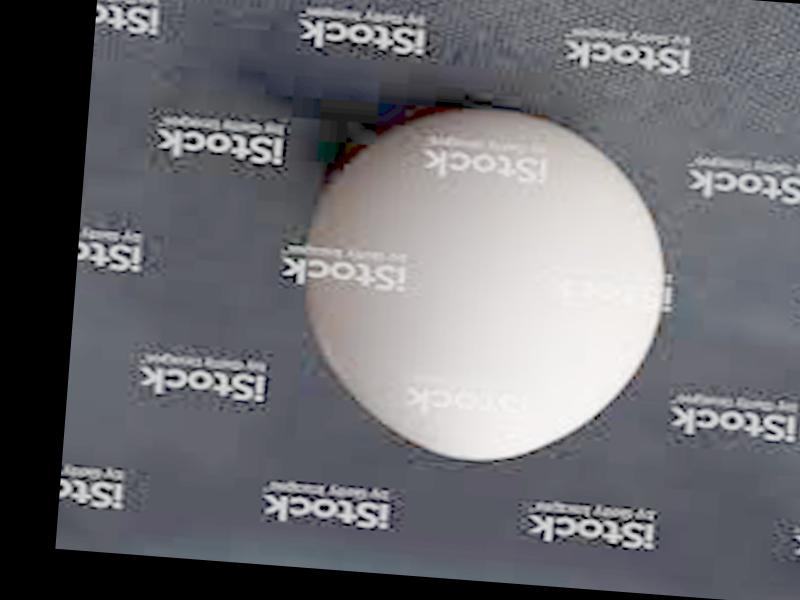Eggs: (290, 94, 675, 473)
